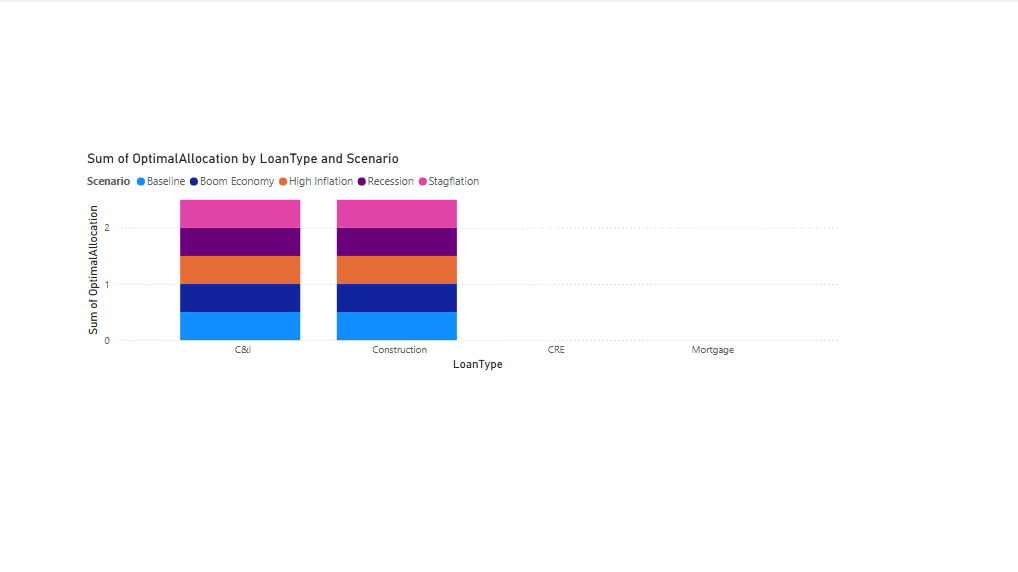

Layout of this report page (visuals, bound fields, positions):
{"tool":"powerbi","page":{"name":"Page 3","canvas":[1280,720],"ordinal":2},"visuals":[{"type":"columnChart","fields":{"Category":["OptimalLoanAllocation.LoanType"],"Y":["Sum(OptimalLoanAllocation.OptimalAllocation)"],"Series":["OptimalLoanAllocation.Scenario"]},"box":[105.8,188,945.1,280.2],"z":1}]}

Visuals, with their boxes in screenshot pixels (x1, y1, x2, y2), scaled from the page's 1280x720 canvas onto the 1018x572 screenshot:
columnChart - OptimalLoanAllocation.LoanType x Sum(OptimalLoanAllocation.OptimalAllocation): bbox=(84, 149, 836, 372)
